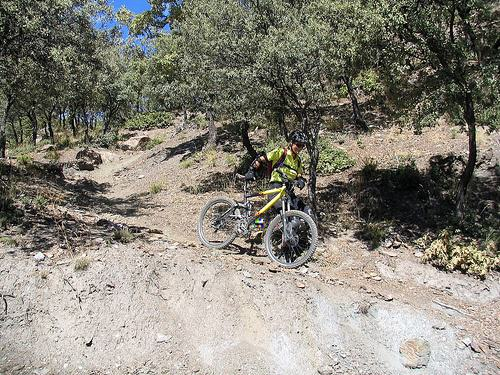car: (197, 174, 322, 273)
person: (250, 130, 308, 209)
